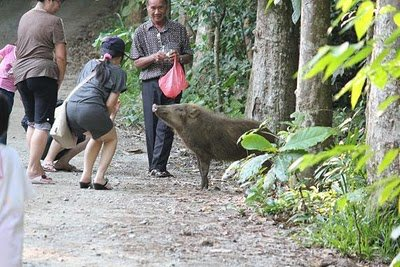boar: (148, 100, 278, 191)
